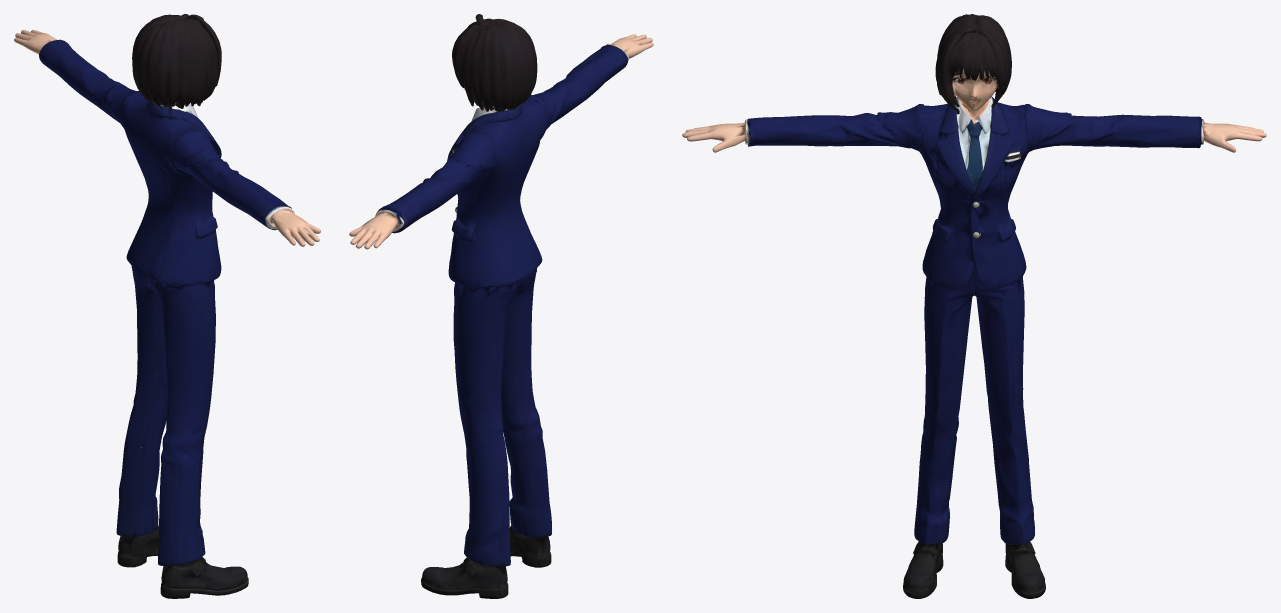
Rendered from tripo_studio_h31_webtoon_character.glb.
3 views of the same model, side by side, from view 1: azimuth 30°, elevation 25°; view 2: azimuth 150°, elevation 25°; view 3: azimuth 270°, elevation 25° (orthographic).
Visible parts, largest first — view 1: tripo_node_63f68637-137c-47a3-8998-7b05a0405708; view 2: tripo_node_63f68637-137c-47a3-8998-7b05a0405708; view 3: tripo_node_63f68637-137c-47a3-8998-7b05a0405708.
Boxes of the visible parts, x1=… form: tripo_node_63f68637-137c-47a3-8998-7b05a0405708: x1=14, y1=14, x2=320, y2=598; tripo_node_63f68637-137c-47a3-8998-7b05a0405708: x1=349, y1=14, x2=653, y2=598; tripo_node_63f68637-137c-47a3-8998-7b05a0405708: x1=682, y1=14, x2=1266, y2=598.
Bounding box in the file's own units: 0.1525 × 0.9778 × 0.9262.
1 material, 1 textured.
